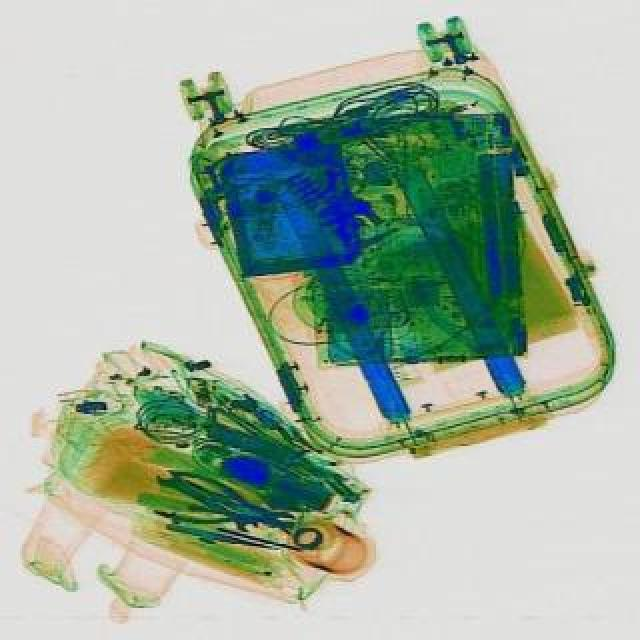scissors: (154, 464, 262, 538)
wrench: (146, 462, 298, 548)
